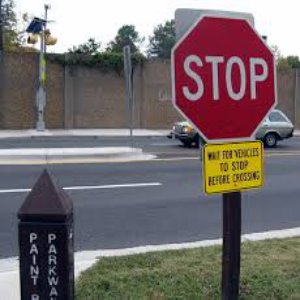STOP_SIGN: (170, 13, 278, 143)
